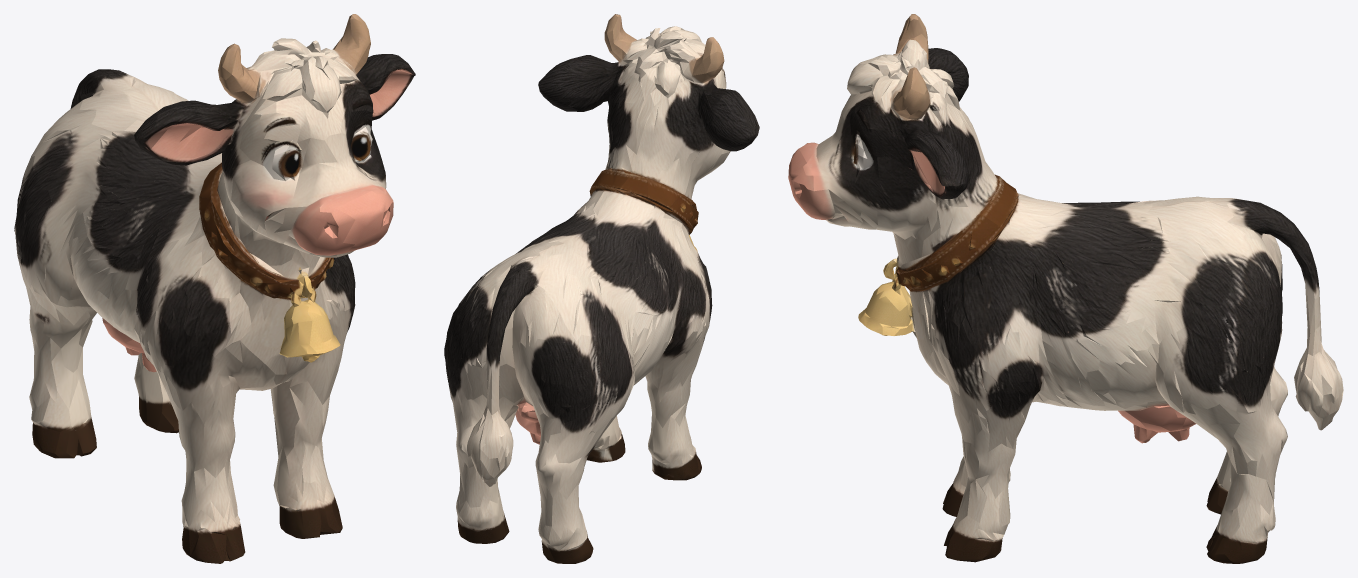
File: remesh-9000.glb
3 renders of one model, left to right at view 1: azimuth 30°, elevation 25°; view 2: azimuth 150°, elevation 25°; view 3: azimuth 270°, elevation 25°, orthographic. The views are drawn at different scales.
Visible parts, largest first — view 1: output_unwrapped; view 2: output_unwrapped; view 3: output_unwrapped.
Part boxes in pixels (<box>): output_unwrapped: <box>14,14,415,563</box>; output_unwrapped: <box>444,14,759,563</box>; output_unwrapped: <box>788,14,1343,563</box>.
Size of the model in its own units: 1.01 by 1.85 by 1.9.
Materials: 1 (1 with a texture image).
